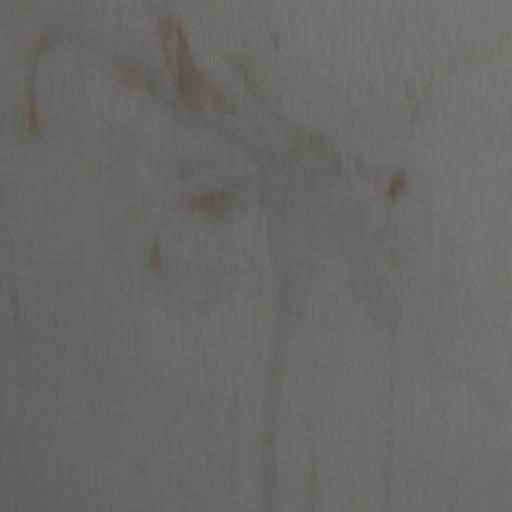stain: (26, 9, 436, 427)
